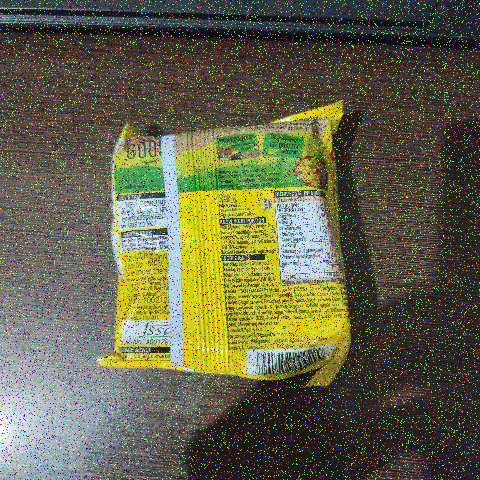maggi: (84, 90, 370, 400)
